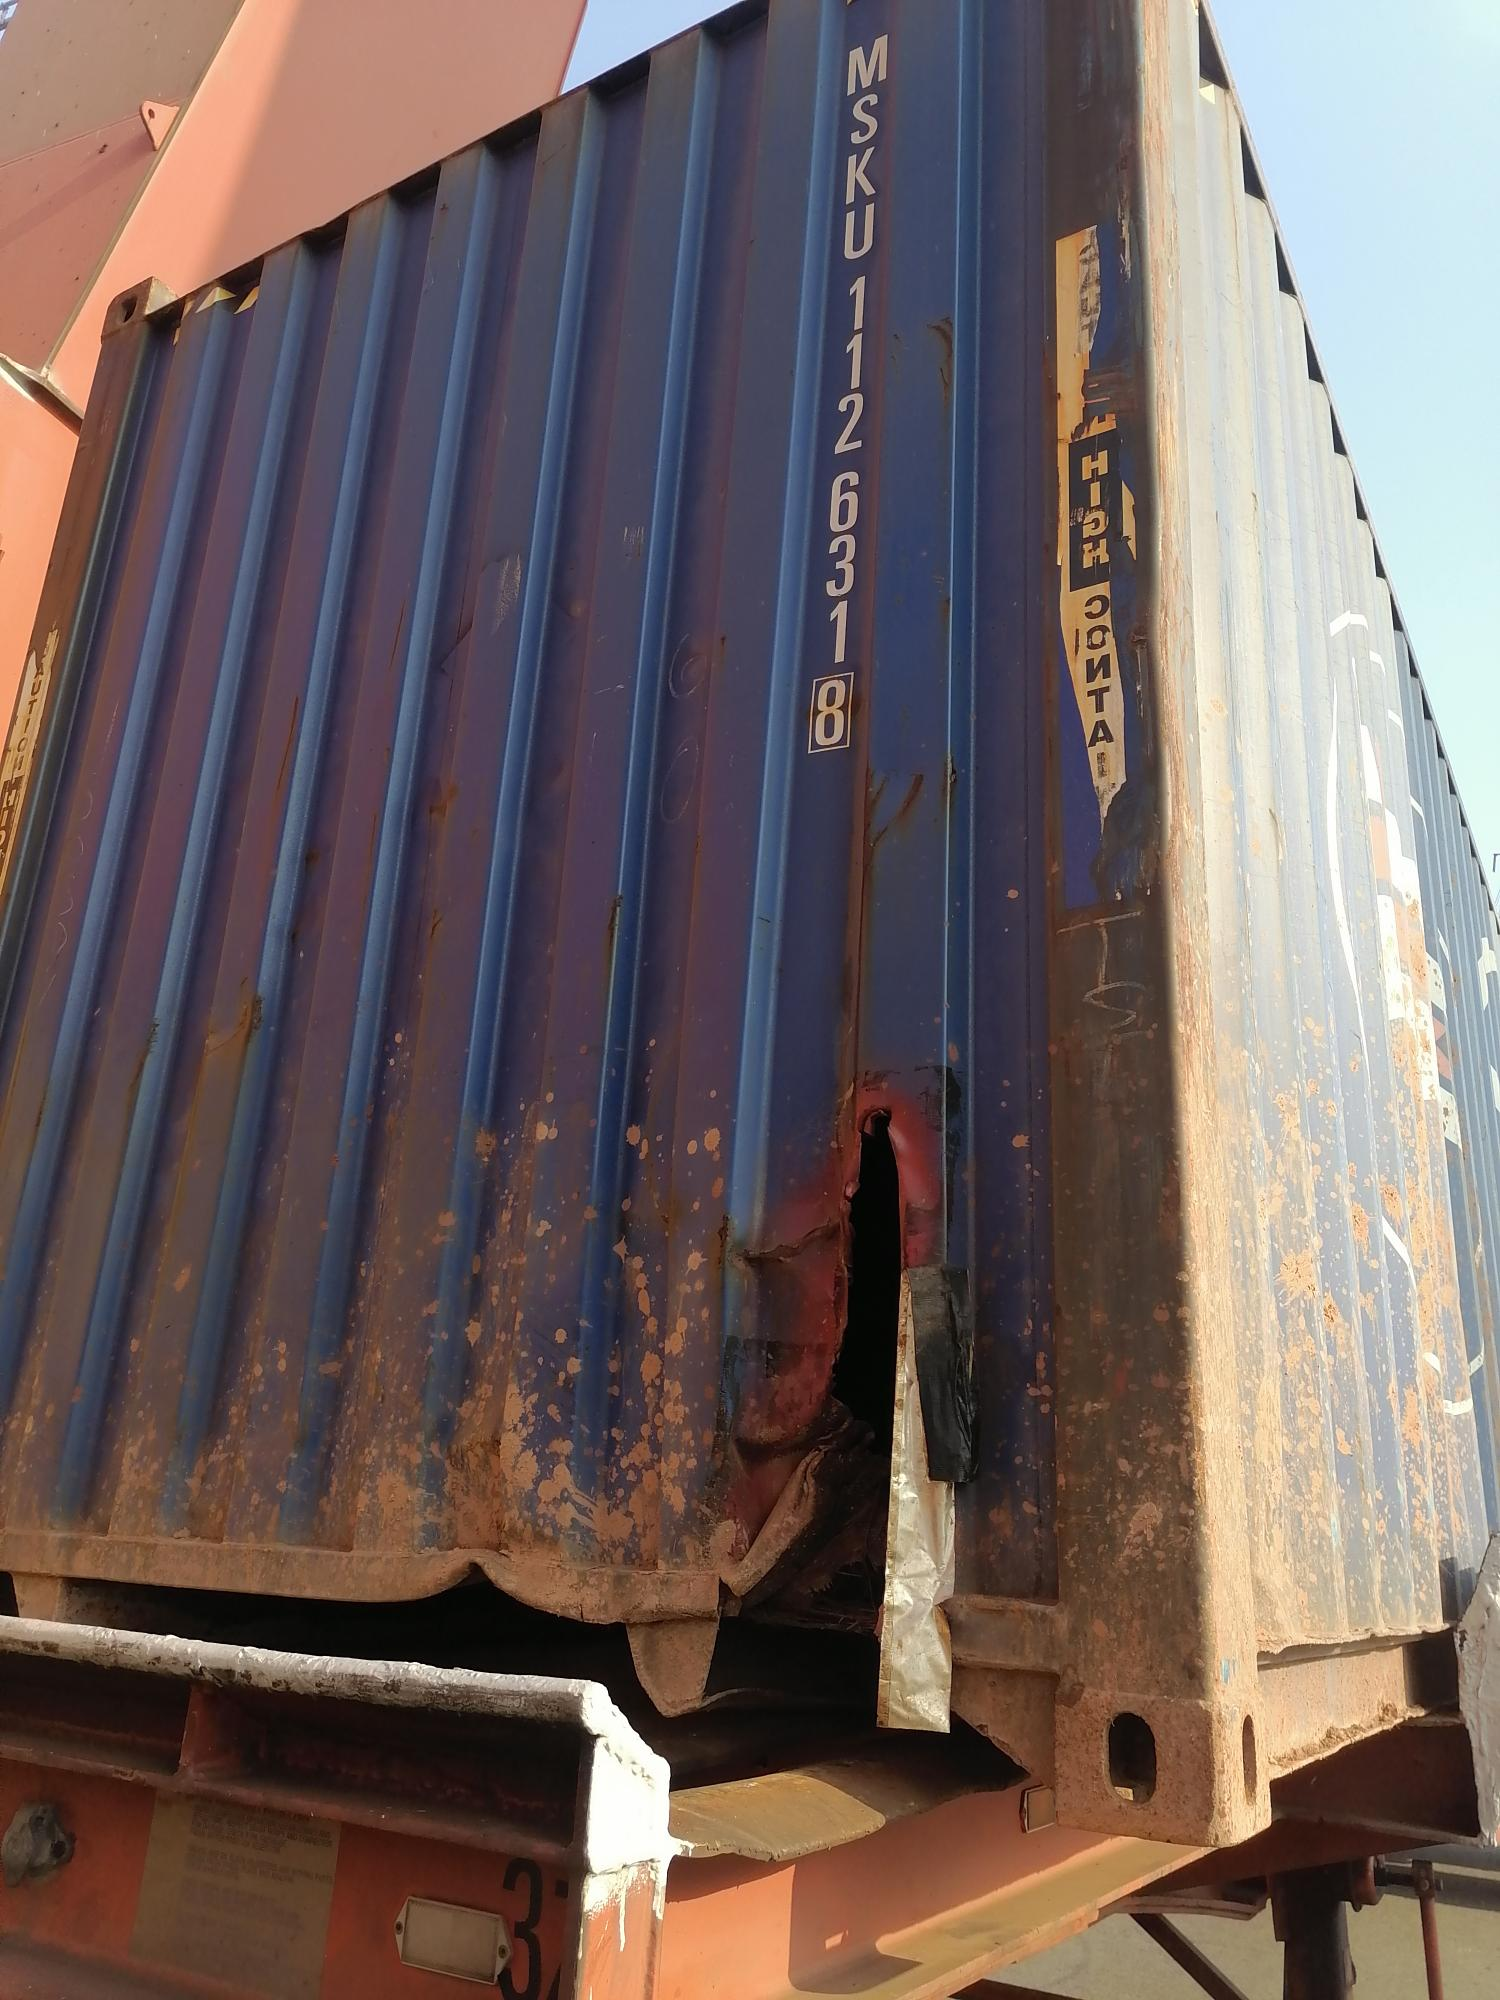severe: (651, 1014, 964, 1687)
